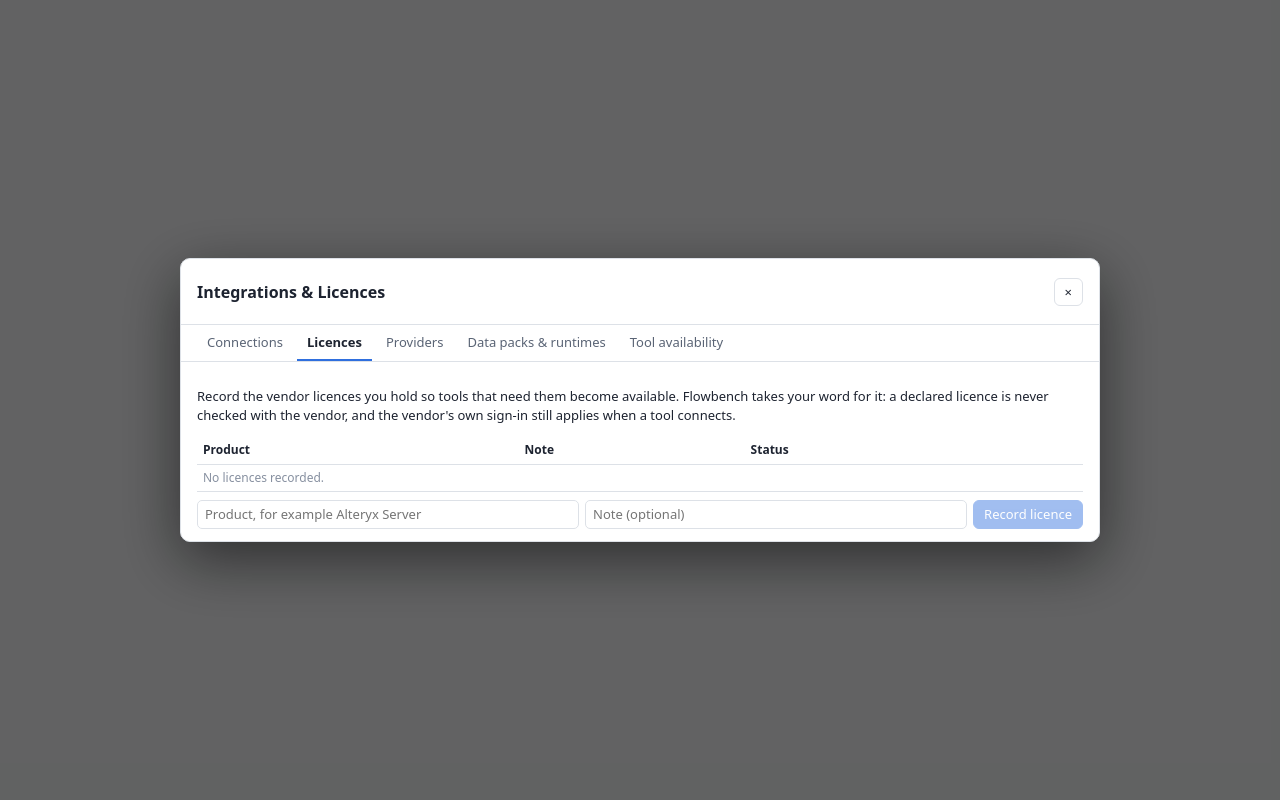
Scenario: Integrations & Licences › records a licence as declared, never validated
Check: the text "No licences recorded." is shown, box 197,464 -> 1083,492
Type "Alteryx Server" into the field named "Licensed product" at (388, 514), box 197,500 -> 579,529
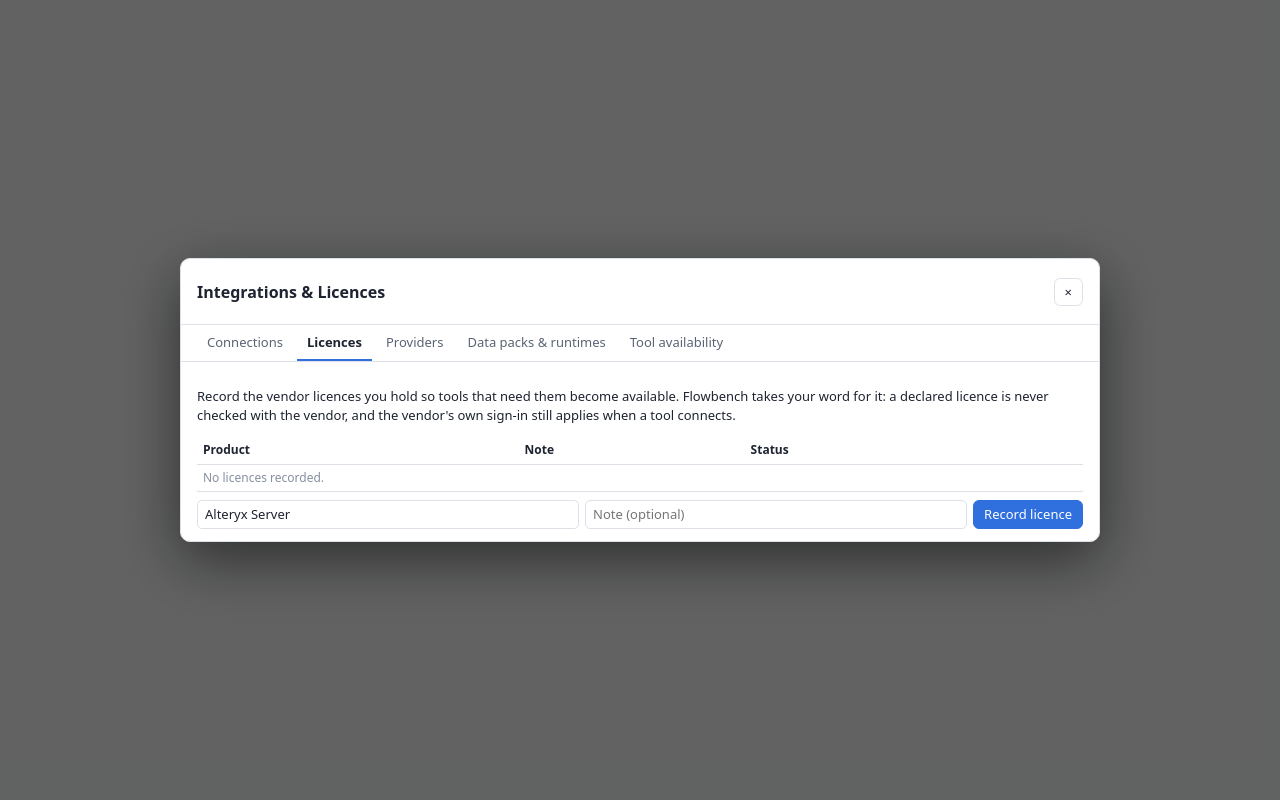
Click the button "Record licence" at (1028, 514), box 973,500 -> 1083,529
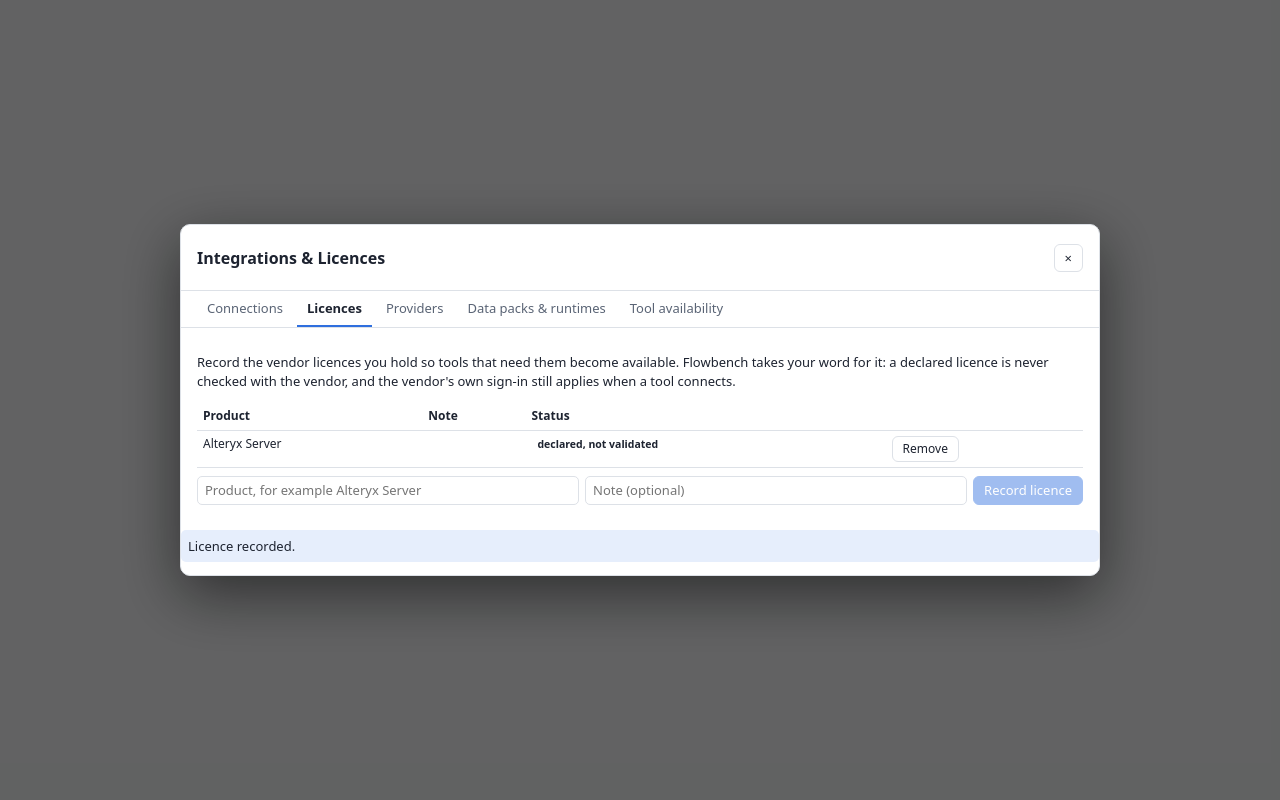
Check: the text "declared, not validated" is shown, box 532,436 -> 664,452
